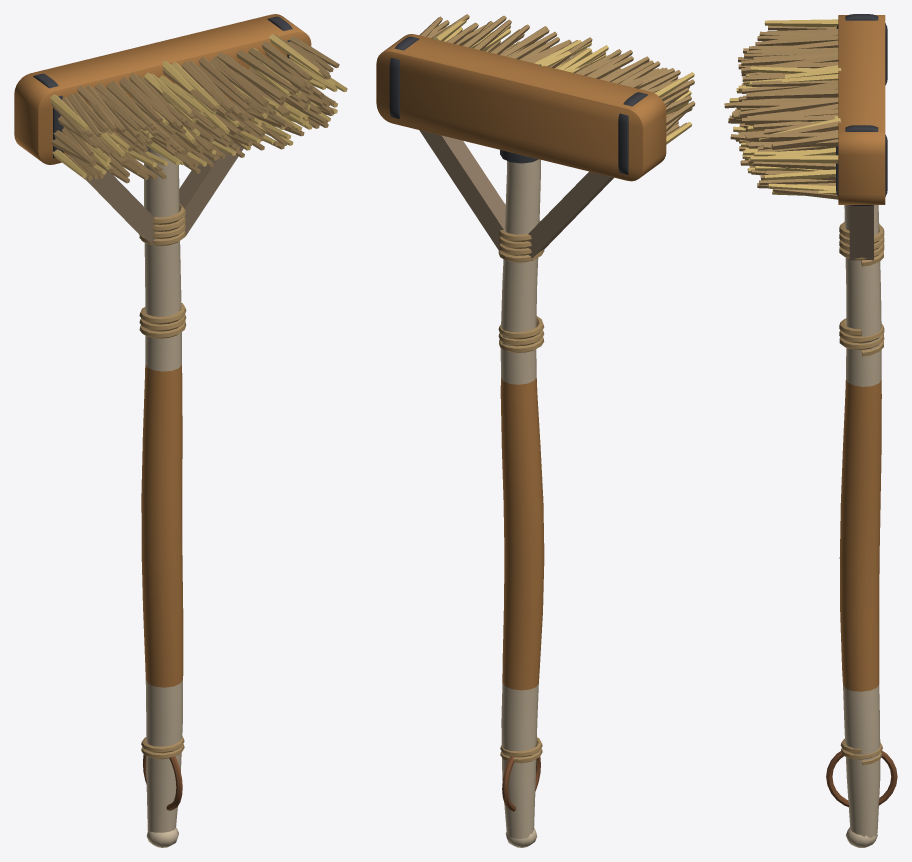
File: tool_sandbrush.fbx
3 renders of one model, left to right at view 1: azimuth 30°, elevation 25°; view 2: azimuth 150°, elevation 25°; view 3: azimuth 270°, elevation 25°, orthographic. The views are drawn at different scales.
Visible parts, largest first — view 1: Tool_SandBrush_Bristles, Tool_SandBrush_Handle, Tool_SandBrush_Block, Tool_SandBrush_Binding; view 2: Tool_SandBrush_Block, Tool_SandBrush_Handle, Tool_SandBrush_Bristles, Tool_SandBrush_Binding; view 3: Tool_SandBrush_Handle, Tool_SandBrush_Bristles, Tool_SandBrush_Block, Tool_SandBrush_Binding.
Boxes of the visible parts, bbox=[...] form: Tool_SandBrush_Bristles: bbox=[50, 34, 347, 183]; Tool_SandBrush_Handle: bbox=[141, 145, 183, 847]; Tool_SandBrush_Block: bbox=[14, 14, 311, 244]; Tool_SandBrush_Binding: bbox=[139, 203, 186, 810]; Tool_SandBrush_Block: bbox=[376, 34, 666, 258]; Tool_SandBrush_Handle: bbox=[500, 159, 544, 847]; Tool_SandBrush_Bristles: bbox=[419, 14, 695, 144]; Tool_SandBrush_Binding: bbox=[498, 220, 544, 811]; Tool_SandBrush_Handle: bbox=[839, 205, 881, 847]; Tool_SandBrush_Bristles: bbox=[724, 19, 841, 199]; Tool_SandBrush_Block: bbox=[836, 14, 887, 260]; Tool_SandBrush_Binding: bbox=[826, 222, 897, 806].
Size of the model in its own units: 34 by 94.58 by 19.15.
